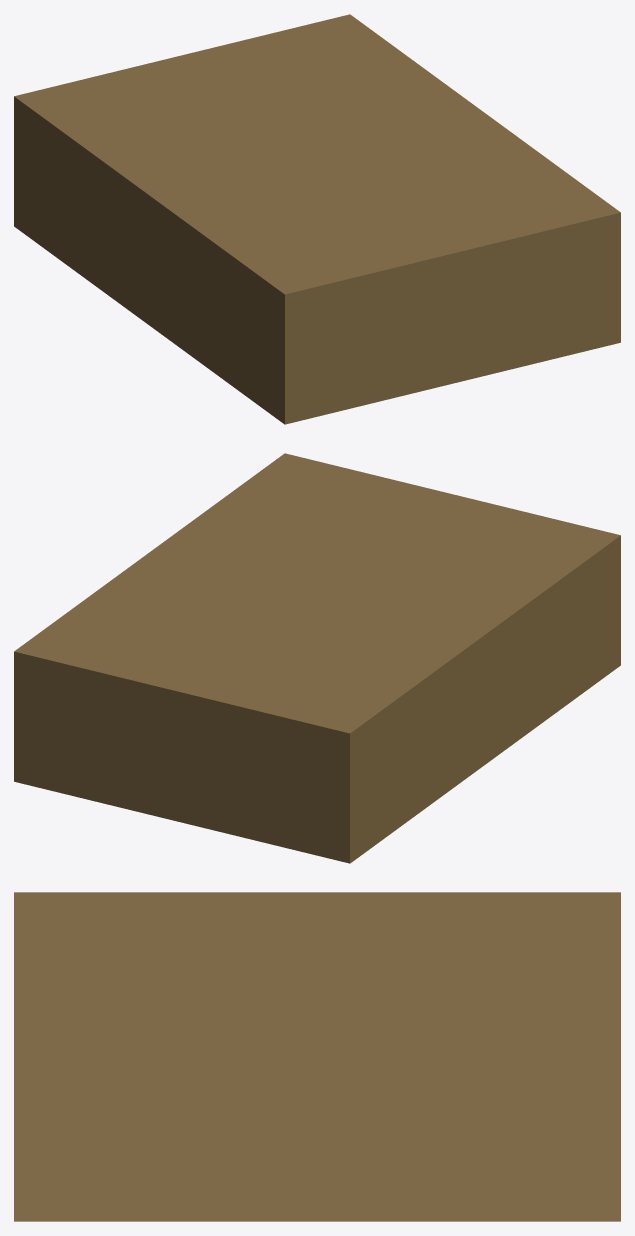
The model's file is Itr_Diningtable_Base_Left_01.FBX.
3 views of the same model, one above another, from view 1: azimuth 30°, elevation 25°; view 2: azimuth 150°, elevation 25°; view 3: azimuth 270°, elevation 25° (orthographic). The views are drawn at different scales.
Parts seen in each view (by area): view 1: Itr_Diningtable_Base_Left_01; view 2: Itr_Diningtable_Base_Left_01; view 3: Itr_Diningtable_Base_Left_01.
Boxes of the visible parts, <box> form: Itr_Diningtable_Base_Left_01: <box>14,14,620,424</box>; Itr_Diningtable_Base_Left_01: <box>14,453,620,863</box>; Itr_Diningtable_Base_Left_01: <box>14,892,620,1221</box>.
Bounding box in the file's own units: 24.71 × 9.14 × 34.48.
